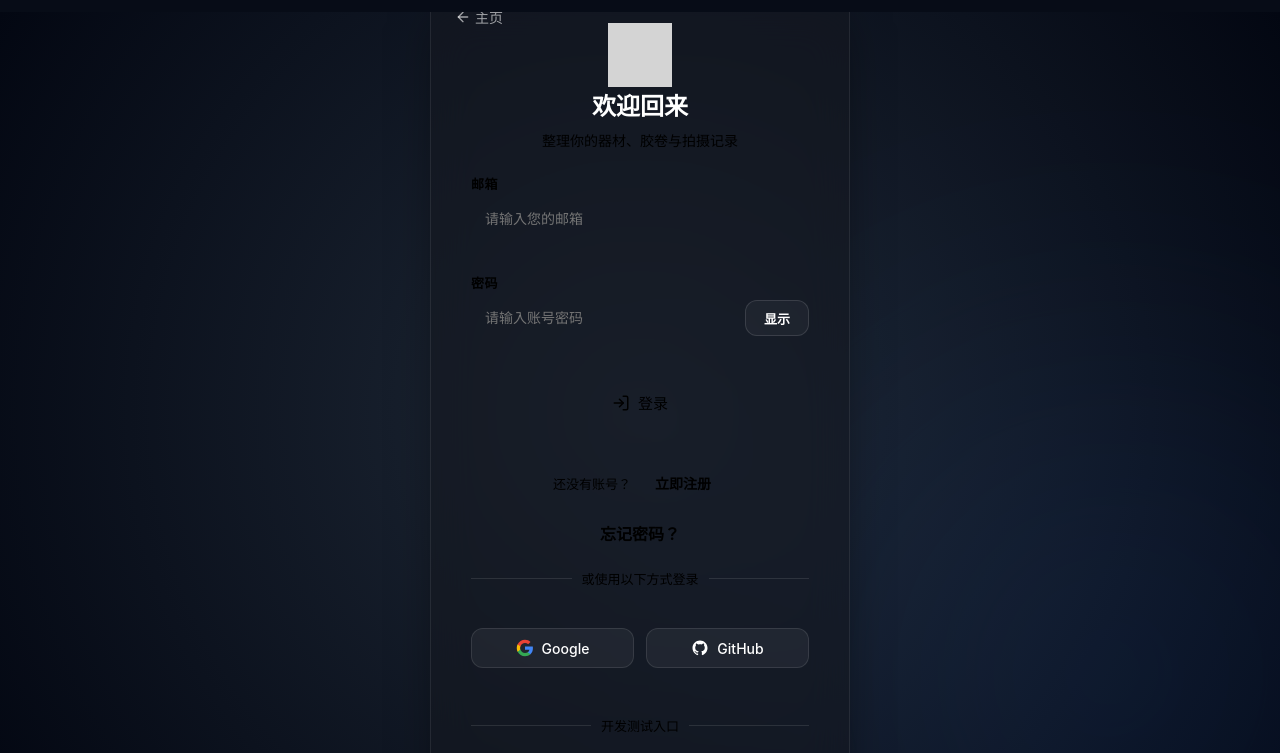
Scenario: Auth frontend closure › shows photographer-facing login failure copy for invalid credentials
Type "user@filmory.app" into the field labelled "邮箱" at (640,219), box [471, 201, 809, 237]
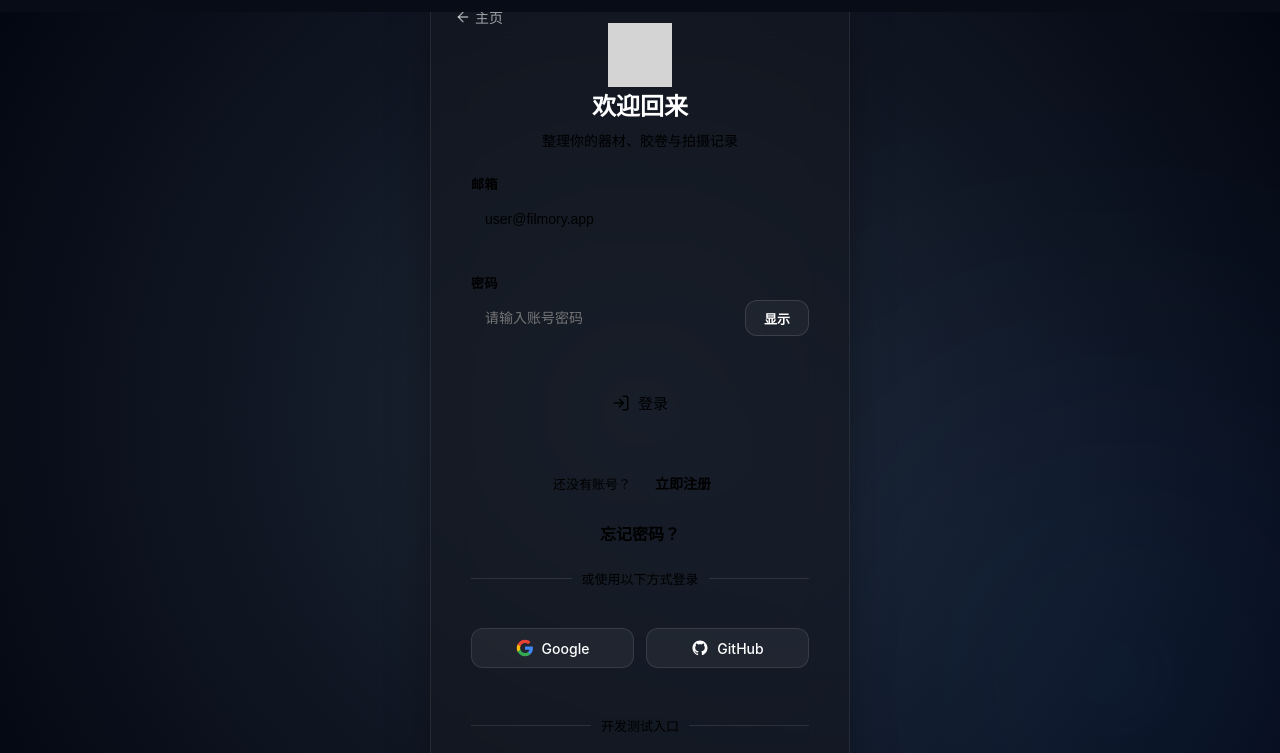
Type "Wrongpass1" into the password field labelled "密码" at (603,318), box [471, 300, 735, 336]
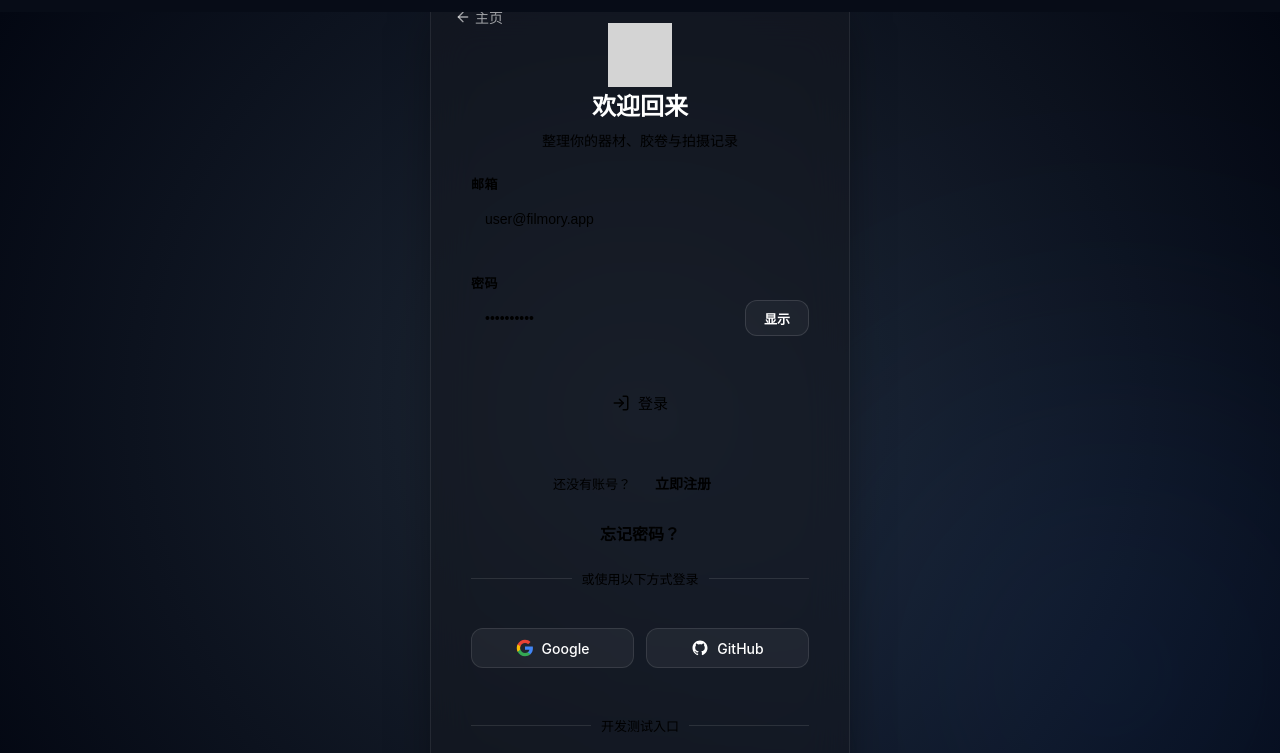
Click the button "登录" at (640,402), box [471, 380, 809, 425]
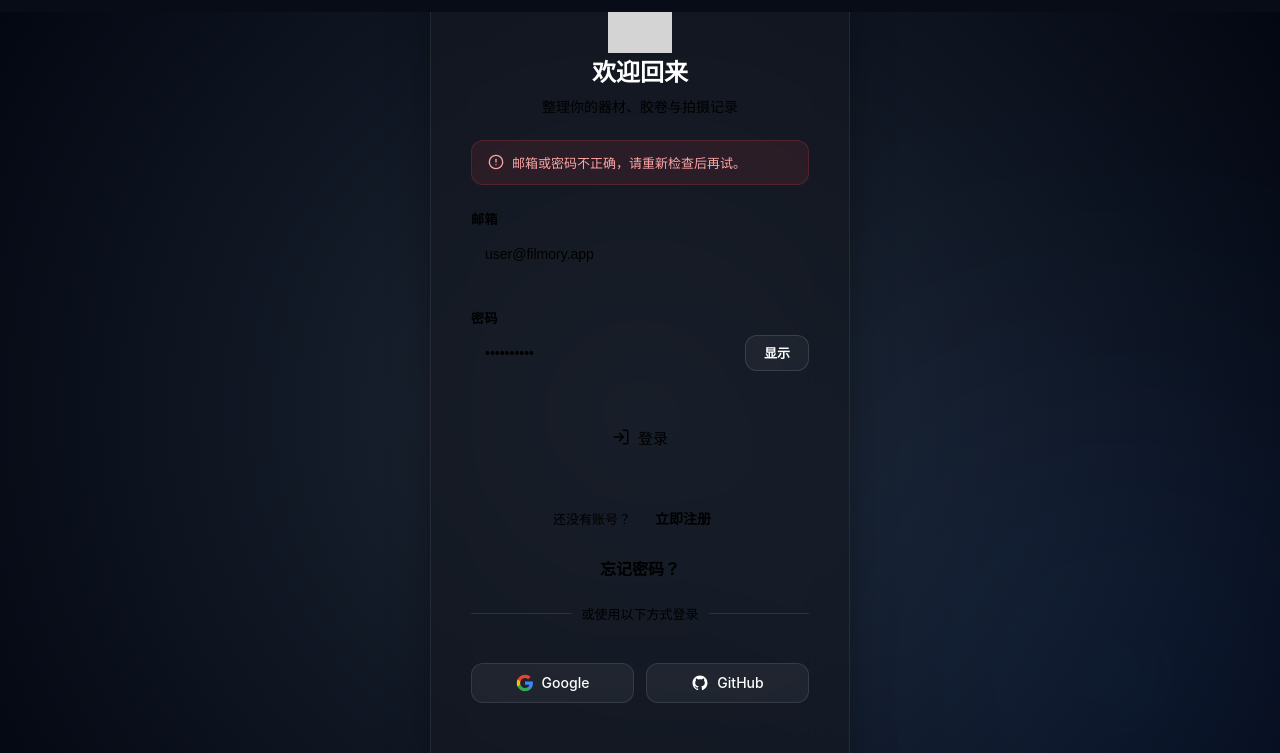
Result: the text "邮箱或密码不正确，请重新检查后再试。" is shown at [512, 152, 746, 172]
